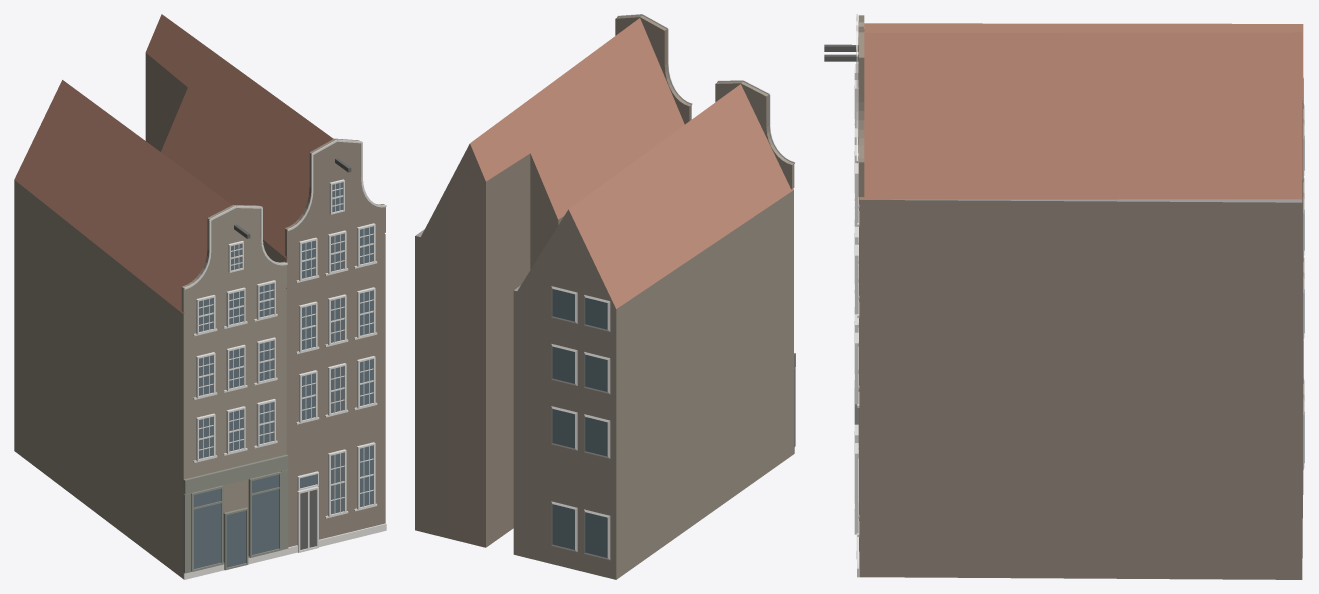
File: chunk-face-haarlemmer-46-96-r1.glb
The picture shows the model from 3 angles, left to right: view 1: azimuth 30°, elevation 25°; view 2: azimuth 150°, elevation 25°; view 3: azimuth 270°, elevation 25°; orthographic projection. The views are drawn at different scales.
Visible parts, largest first — view 1: face-haarlemmer-46-96-r1; view 2: face-haarlemmer-46-96-r1; view 3: face-haarlemmer-46-96-r1.
Part boxes in pixels (x1,y1,x2,y2): face-haarlemmer-46-96-r1: (14, 14, 386, 579); face-haarlemmer-46-96-r1: (415, 14, 795, 579); face-haarlemmer-46-96-r1: (824, 14, 1304, 579).
Bounding box in the file's own units: 9.6 × 17.9 × 15.14.
